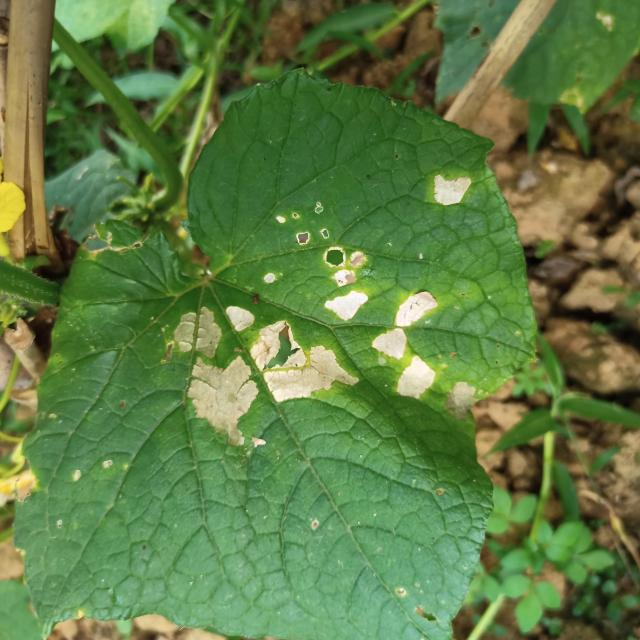disease_cucumber: (165, 301, 368, 461), (262, 200, 366, 331), (368, 282, 440, 403), (424, 170, 476, 211)
